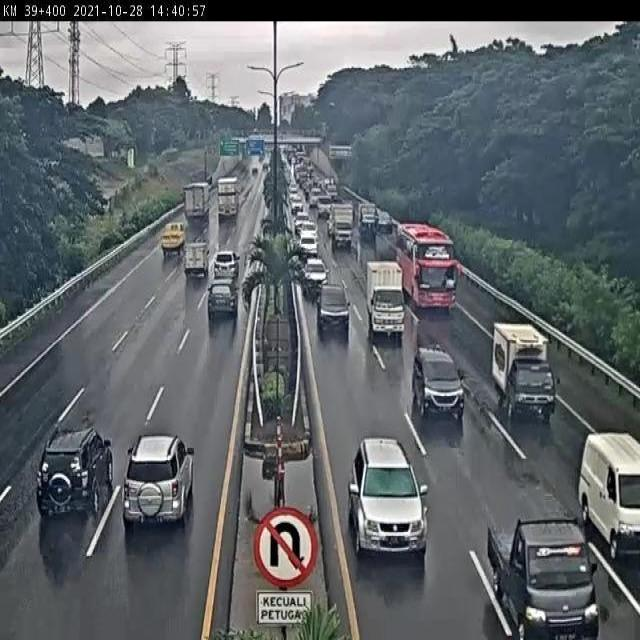Bus: (395, 224, 457, 309)
Car: (348, 435, 429, 556), (36, 423, 115, 519), (122, 432, 195, 526), (411, 346, 465, 424), (207, 280, 238, 320), (213, 250, 240, 282), (289, 191, 303, 217), (327, 186, 340, 203)
Truck: (492, 504, 593, 640), (492, 322, 556, 425)
Van: (578, 434, 640, 559), (317, 282, 352, 340), (183, 240, 210, 278), (298, 224, 318, 256), (360, 204, 378, 236), (282, 144, 298, 166), (310, 188, 322, 208)
